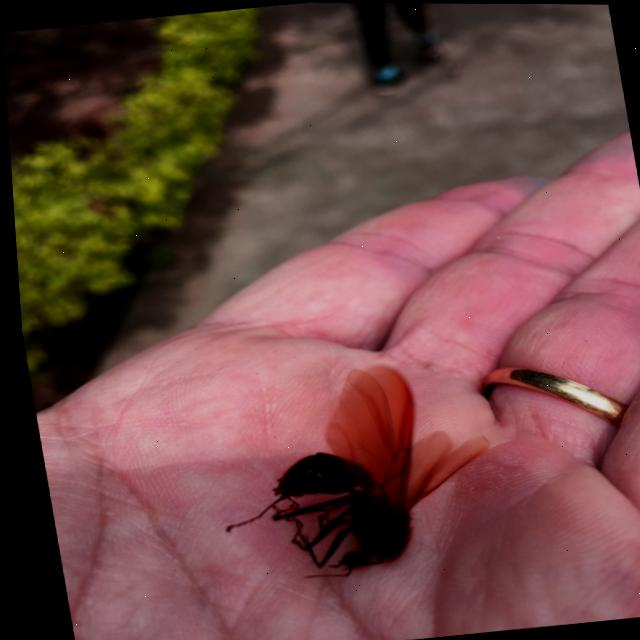Dead-Male-Alate: (192, 352, 505, 590)
